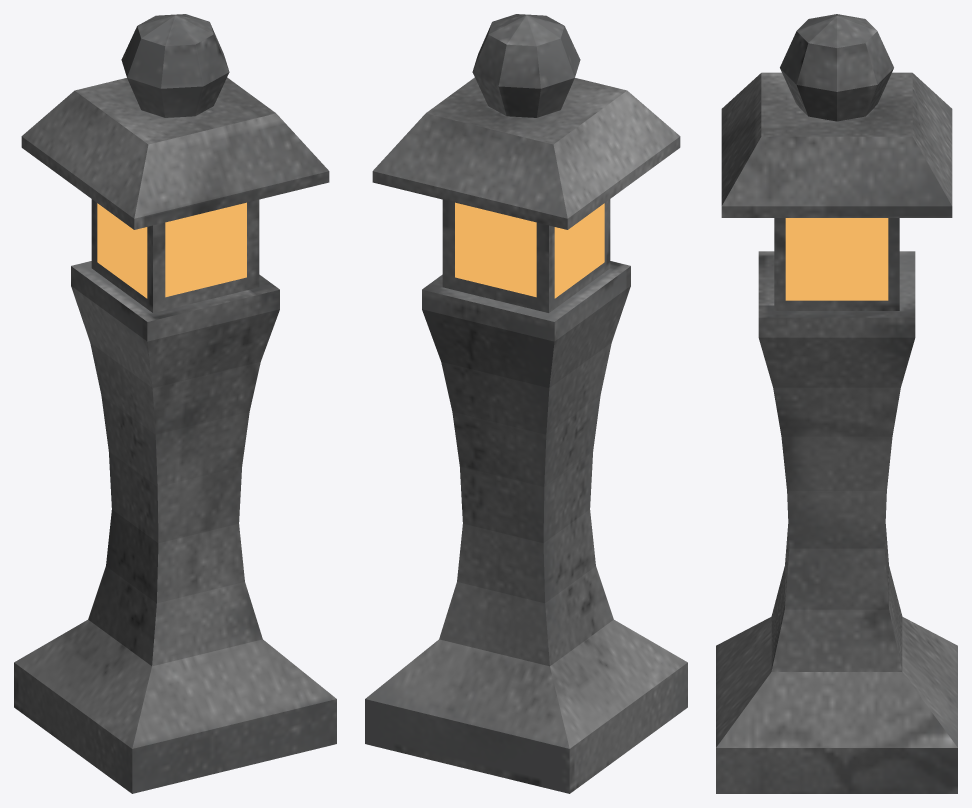
The model's file is Pagoda02.glb.
3 renders of one model, left to right at view 1: azimuth 30°, elevation 25°; view 2: azimuth 150°, elevation 25°; view 3: azimuth 270°, elevation 25°, orthographic. The views are drawn at different scales.
Parts seen in each view (by area): view 1: Zen Pagoda 02; view 2: Zen Pagoda 02; view 3: Zen Pagoda 02.
Boxes of the visible parts, x1,y1,x2,y2 form: Zen Pagoda 02: (14, 14, 336, 793); Zen Pagoda 02: (365, 14, 687, 793); Zen Pagoda 02: (716, 14, 957, 793).
Size of what is drawn, in the model's own units: 0.5975 by 1.98 by 0.5975.
Materials: 2 (1 with a texture image).
